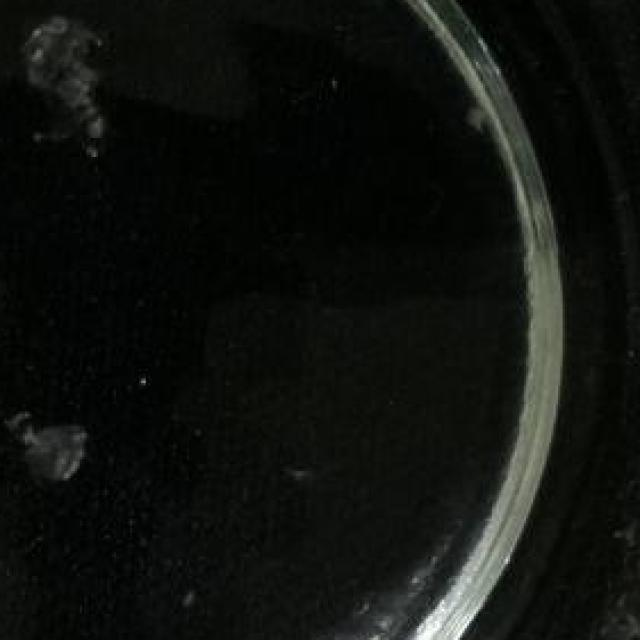Microplastic: (0, 2, 130, 188), (0, 400, 114, 495)
